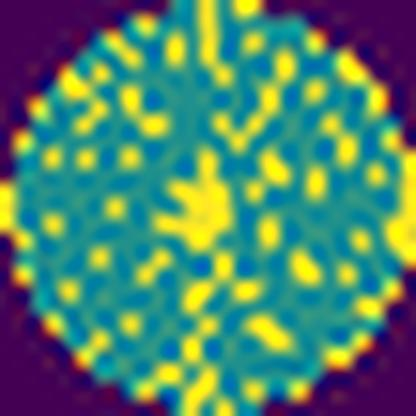Center: (154, 145, 235, 259)
